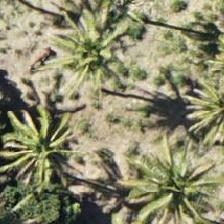coconut_tree: (41, 7, 131, 97), (0, 90, 86, 180), (127, 139, 217, 223), (167, 75, 223, 165)
